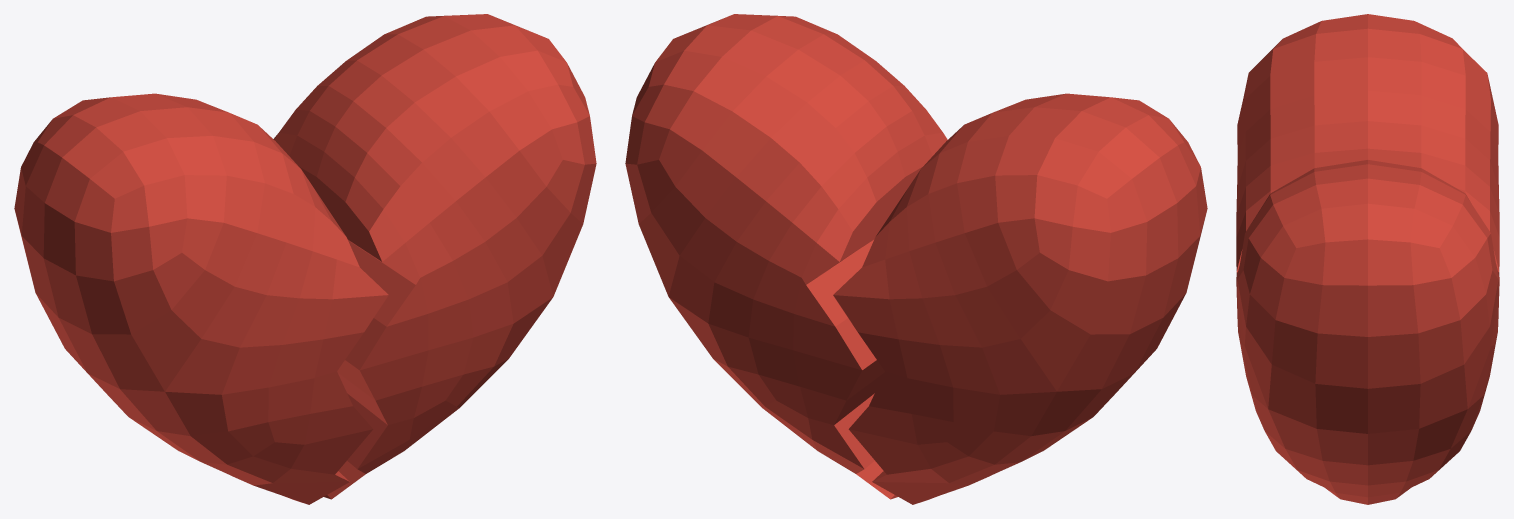
The model's file is Heart_Broken.glb.
3 renders of one model, left to right at view 1: azimuth 30°, elevation 25°; view 2: azimuth 150°, elevation 25°; view 3: azimuth 270°, elevation 25°, orthographic. The views are drawn at different scales.
Visible parts, largest first — view 1: Heart_Broken_Cube.002; view 2: Heart_Broken_Cube.002; view 3: Heart_Broken_Cube.002.
Part boxes in pixels (x1,y1,x2,y2): Heart_Broken_Cube.002: [14, 14, 596, 504]; Heart_Broken_Cube.002: [625, 14, 1207, 504]; Heart_Broken_Cube.002: [1236, 14, 1499, 504].
Bounding box in the file's own units: 0.8377 × 0.6522 × 0.3927.
